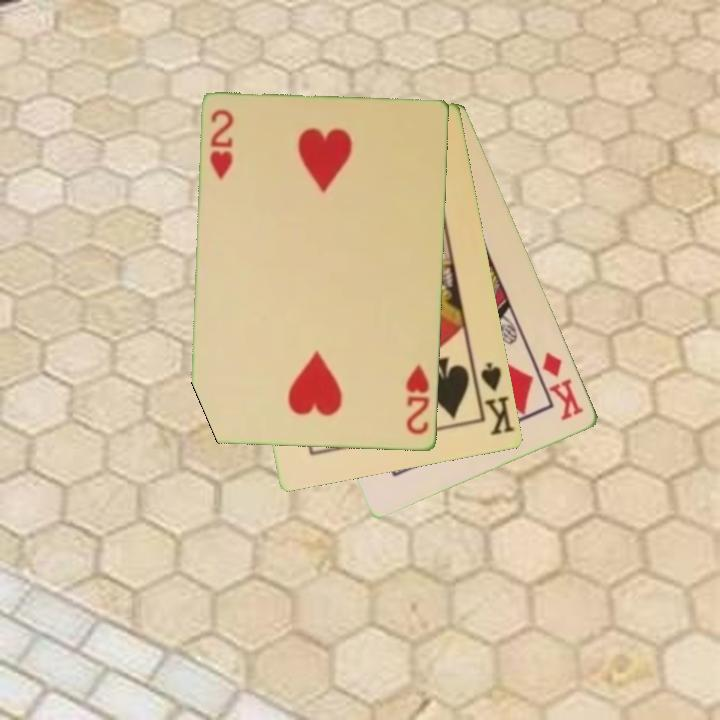2h: (206, 107, 237, 184), (403, 361, 433, 438)
Kd: (539, 348, 588, 424)
Ks: (469, 359, 518, 439)
